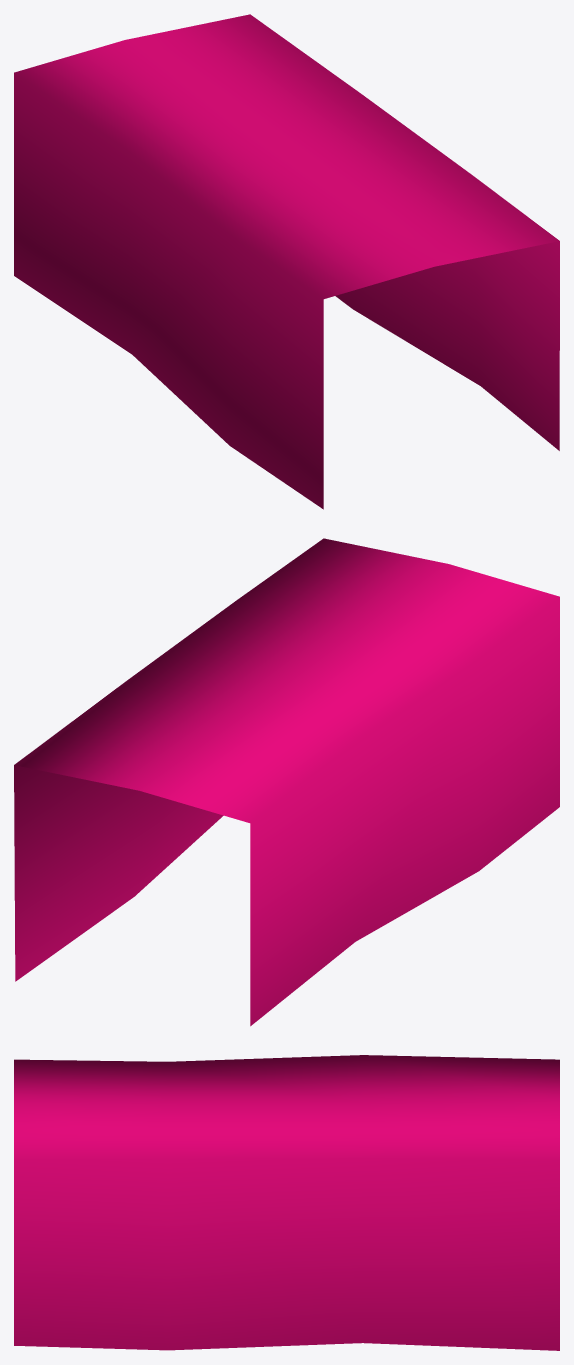
The model's file is Tablecloth_01.fbx.
The picture shows the model from 3 angles, top to bottom: view 1: azimuth 30°, elevation 25°; view 2: azimuth 150°, elevation 25°; view 3: azimuth 270°, elevation 25°; orthographic projection. The views are drawn at different scales.
Visible parts, largest first — view 1: Tablecloth_01; view 2: Tablecloth_01; view 3: Tablecloth_01.
Boxes of the visible parts, bbox=[...] form: Tablecloth_01: bbox=[14, 14, 559, 509]; Tablecloth_01: bbox=[14, 538, 559, 1026]; Tablecloth_01: bbox=[14, 1055, 559, 1350].
Size of the model in its own units: 92.82 by 78.26 by 198.
